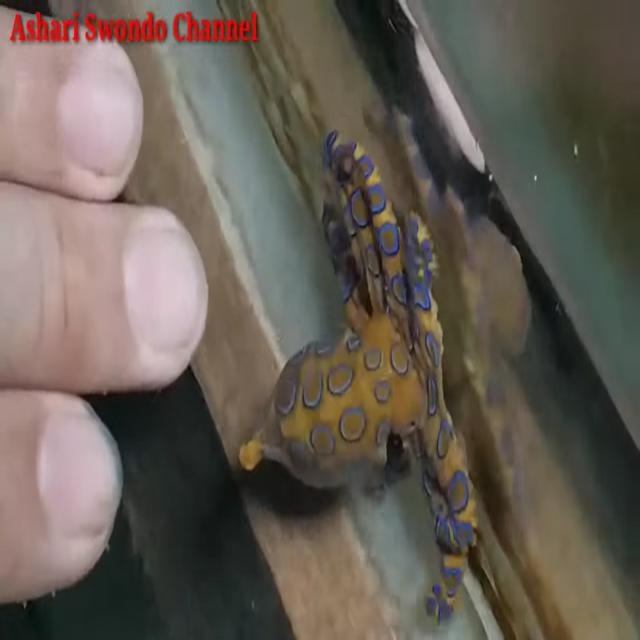blue_ringed_octopus: (236, 127, 478, 628)
